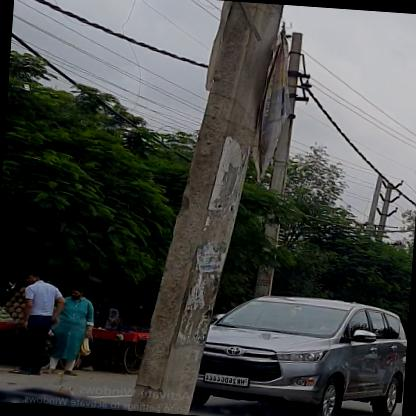car: (184, 287, 410, 415)
